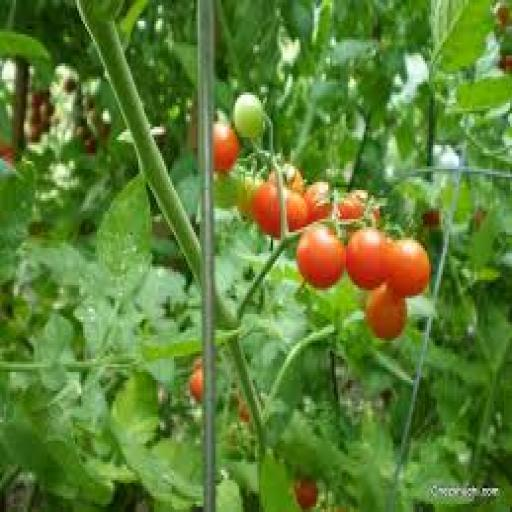tomato: (297, 225, 345, 287), (346, 227, 387, 290), (388, 238, 430, 295), (366, 286, 407, 340), (252, 183, 280, 237), (234, 93, 264, 139), (214, 122, 239, 174), (305, 183, 332, 221), (337, 191, 369, 221), (285, 191, 308, 232), (238, 177, 260, 219), (214, 175, 241, 208), (281, 164, 304, 195), (337, 196, 365, 221), (295, 481, 318, 509), (190, 367, 203, 403), (495, 3, 511, 29), (422, 209, 440, 229), (238, 399, 251, 424), (0, 143, 13, 166), (473, 209, 486, 229), (64, 77, 77, 95), (499, 56, 511, 73), (86, 138, 96, 155), (194, 357, 203, 372)
